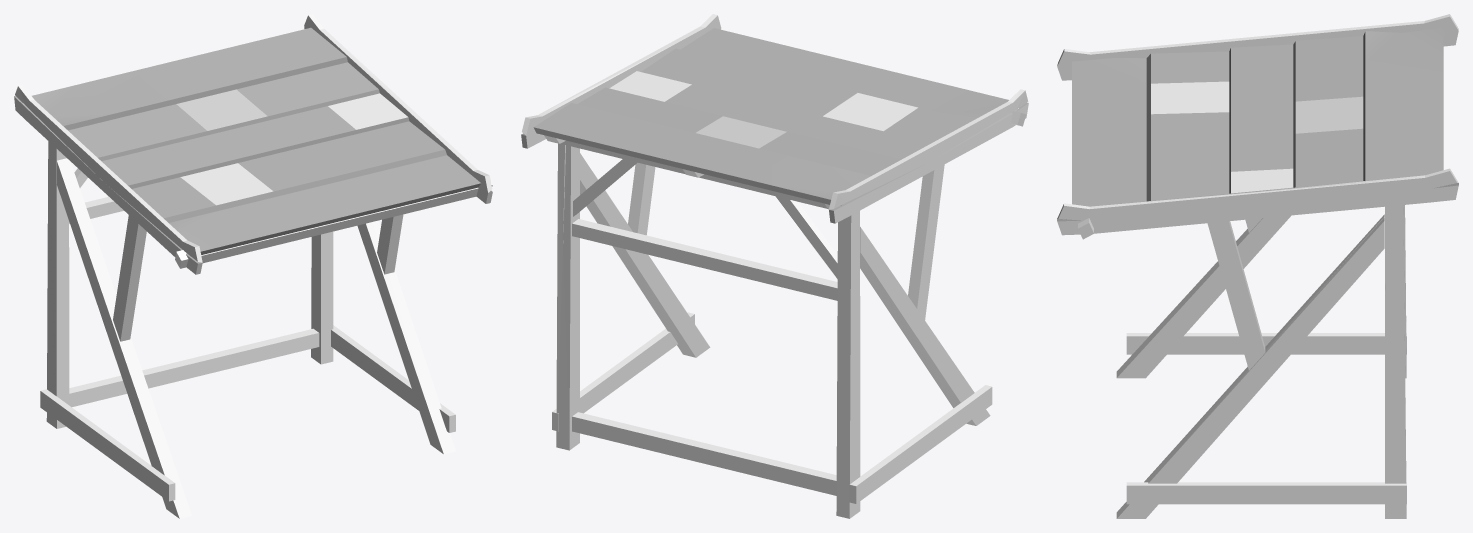
The model's file is PT_Market_Stall_03.fbx.
3 views of the same model, side by side, from view 1: azimuth 30°, elevation 25°; view 2: azimuth 150°, elevation 25°; view 3: azimuth 270°, elevation 25° (orthographic). The views are drawn at different scales.
Parts seen in each view (by area): view 1: PT_Market_Stall_03; view 2: PT_Market_Stall_03; view 3: PT_Market_Stall_03.
Part boxes in pixels (x1=…): PT_Market_Stall_03: x1=14, y1=14, x2=492, y2=518; PT_Market_Stall_03: x1=521, y1=14, x2=1028, y2=518; PT_Market_Stall_03: x1=1057, y1=14, x2=1458, y2=518.
Bounding box in the file's own units: 347 × 344 × 355.
Materials: 1 (1 with a texture image).
